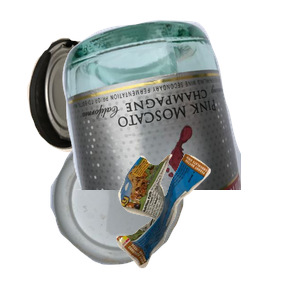glass: (60, 17, 300, 197)
metal: (25, 35, 189, 180)
plastic: (48, 132, 224, 300)
trash: (114, 151, 300, 300)
